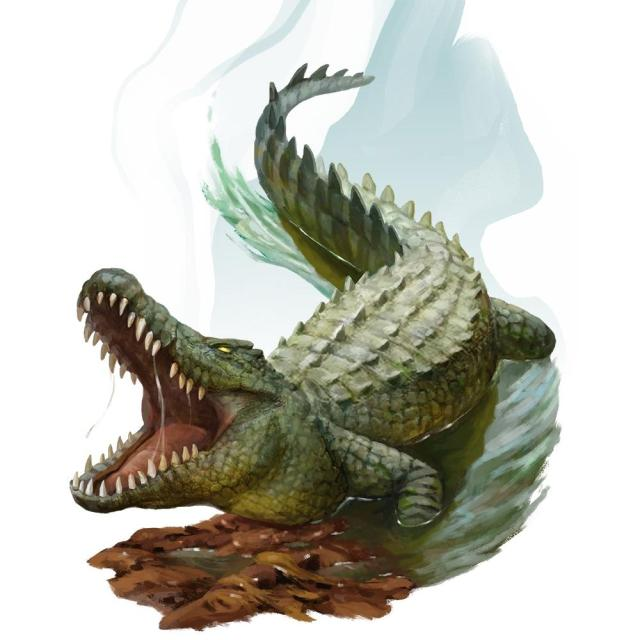crocodile: (72, 66, 562, 534)
